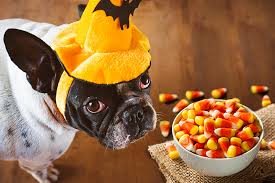dog: (3, 4, 193, 163)
